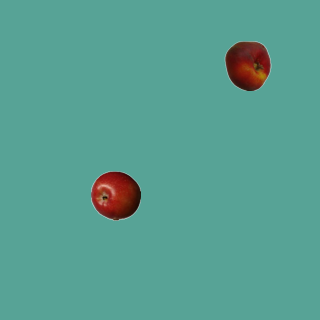Apple Braeburn: (90, 170, 140, 220)
Nectarine Flat: (222, 40, 272, 90)
